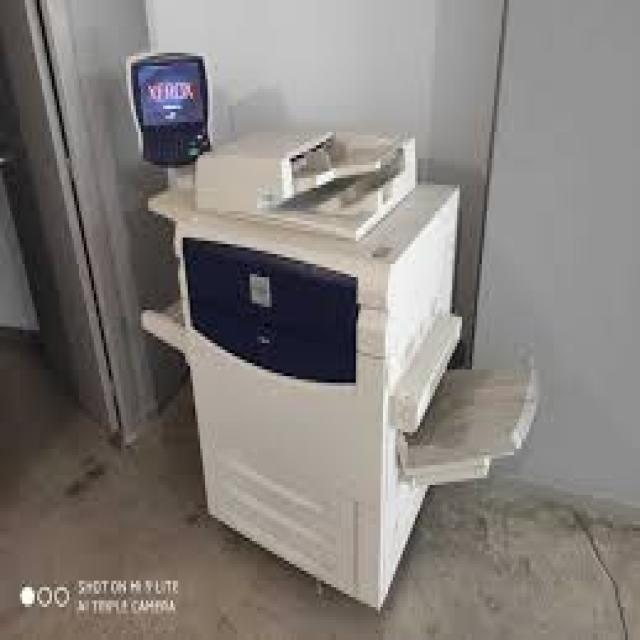printer: (124, 40, 552, 618)
